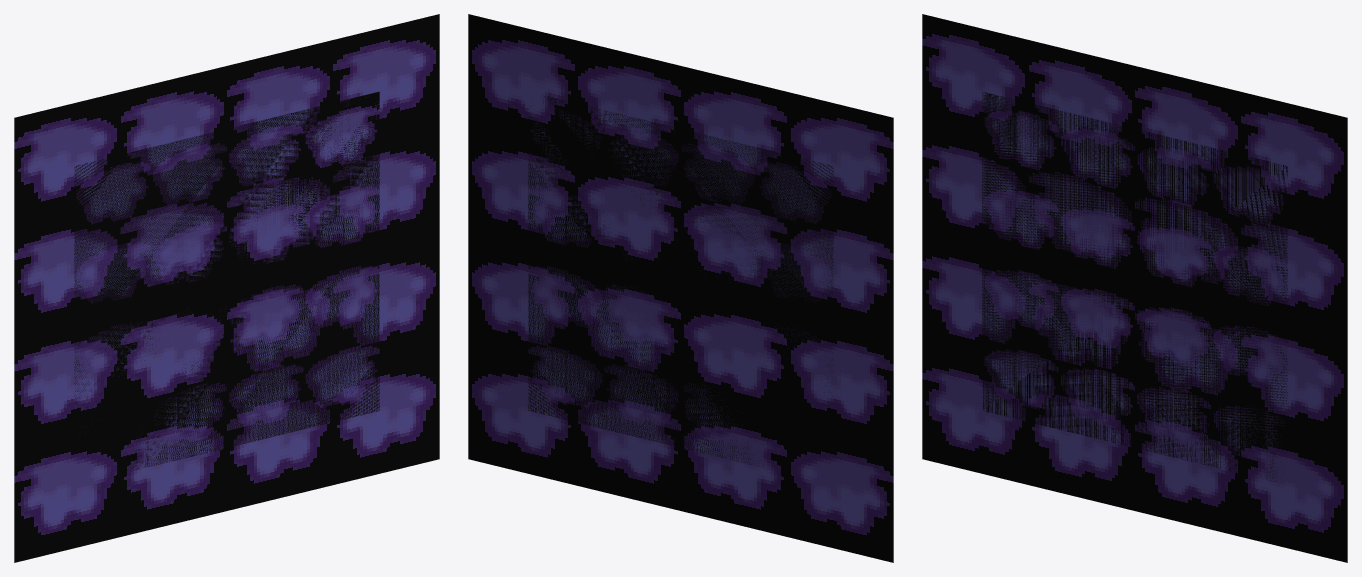
The picture shows the model from 3 angles, left to right: view 1: azimuth 30°, elevation 25°; view 2: azimuth 150°, elevation 25°; view 3: azimuth 330°, elevation 25°; orthographic projection.
Parts seen in each view (by area): view 1: ef_142; view 2: ef_142; view 3: ef_142.
Part boxes in pixels (left/top/right/bottom): ef_142: left=14, top=14, right=439, bottom=562; ef_142: left=468, top=14, right=893, bottom=562; ef_142: left=922, top=14, right=1347, bottom=562.
Bounding box in the file's own units: 0.52 × 0.52 × 0.
Materials: 1 (1 with a texture image).
